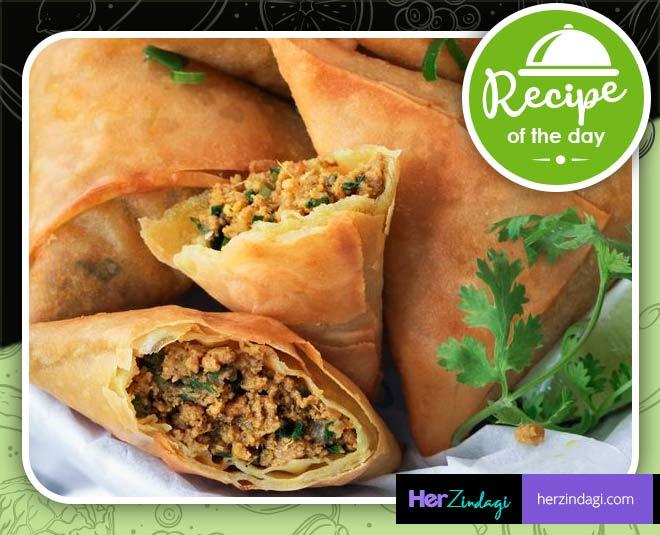samosa: (271, 40, 632, 455), (139, 146, 399, 396), (521, 246, 598, 353)
